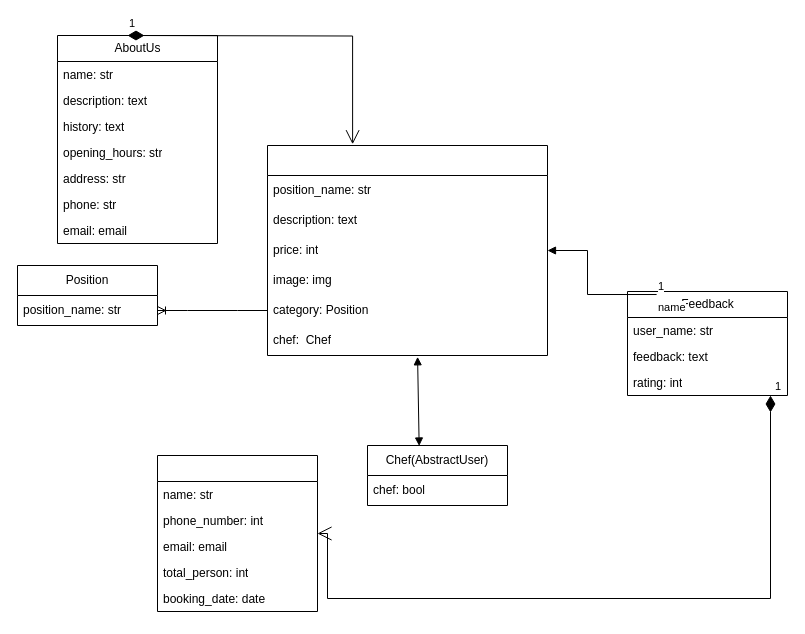
Image size: 805x634. Some labels were removed from this diagram. Each missing label, with the box of its shape:
BookTable: (156, 454, 318, 612)
PositionList: (266, 144, 548, 356)
